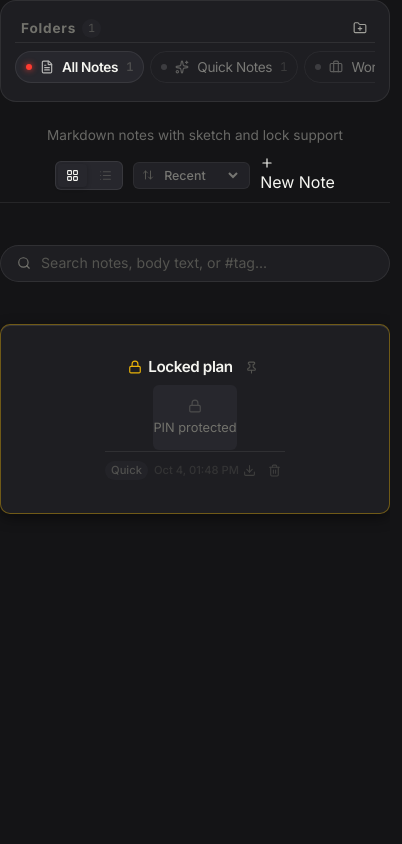
NotesWorkflows: Multi-Agent Edge & Unit Tests for Notes Vault › regressions from the Notes page test run (NOTES_TEST_CASES.md) › locked notes reveal neither their tags nor their text through tags or search
Type "salary" into the field with placeholder "Search notes, body text, or #tag...".
click(207, 263); type("salary")  # box [41,254,373,273]
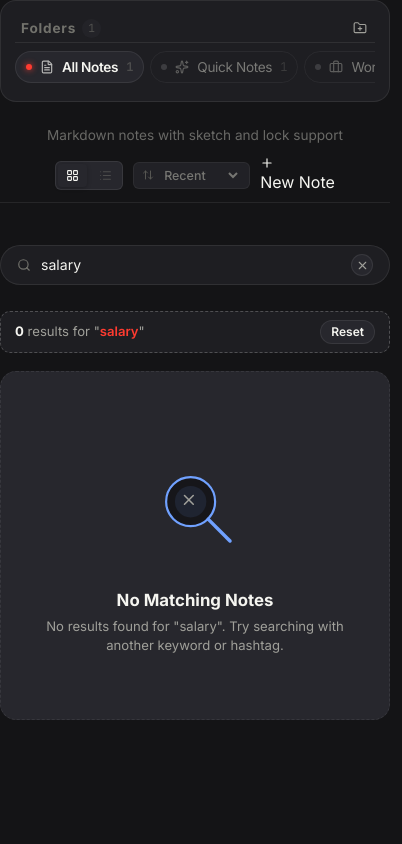
Now the heading "Locked plan" is gone
